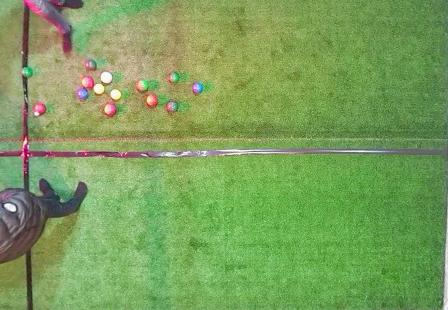blue: (192, 83, 203, 94), (77, 89, 88, 98)
green: (137, 80, 148, 91), (169, 73, 179, 83), (86, 60, 96, 70), (22, 67, 32, 77), (167, 102, 178, 111)
red: (104, 103, 116, 116), (146, 95, 158, 107), (82, 76, 94, 88), (101, 72, 112, 83), (35, 103, 46, 113)
vline: (1, 77, 30, 191), (1, 252, 35, 309), (441, 1, 447, 309), (1, 6, 30, 67)
white: (34, 112, 40, 116)
yellow: (110, 88, 121, 100), (94, 84, 104, 94)
